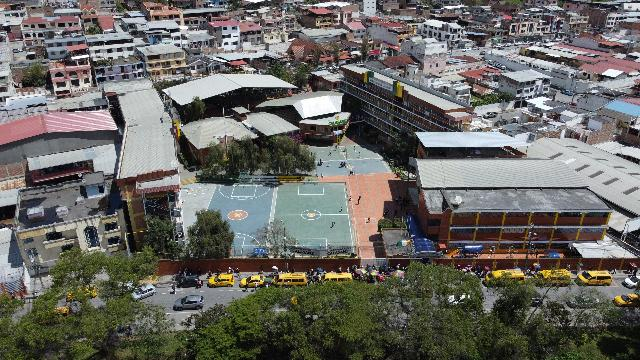Vehiculo: (576, 270, 612, 286), (66, 284, 98, 302), (173, 295, 204, 311), (566, 294, 598, 308), (132, 284, 156, 300), (208, 274, 235, 288), (612, 294, 640, 307), (240, 276, 266, 288), (178, 276, 202, 288), (622, 276, 640, 288), (482, 111, 498, 118), (494, 61, 506, 69), (494, 119, 508, 125), (561, 90, 573, 97), (513, 116, 519, 122), (462, 48, 471, 52), (472, 46, 480, 50), (480, 50, 488, 54), (485, 60, 493, 64), (494, 44, 502, 48), (514, 42, 522, 46), (535, 40, 543, 44), (446, 51, 452, 55), (503, 44, 511, 47), (551, 38, 561, 40), (524, 42, 532, 44), (544, 40, 550, 42)
